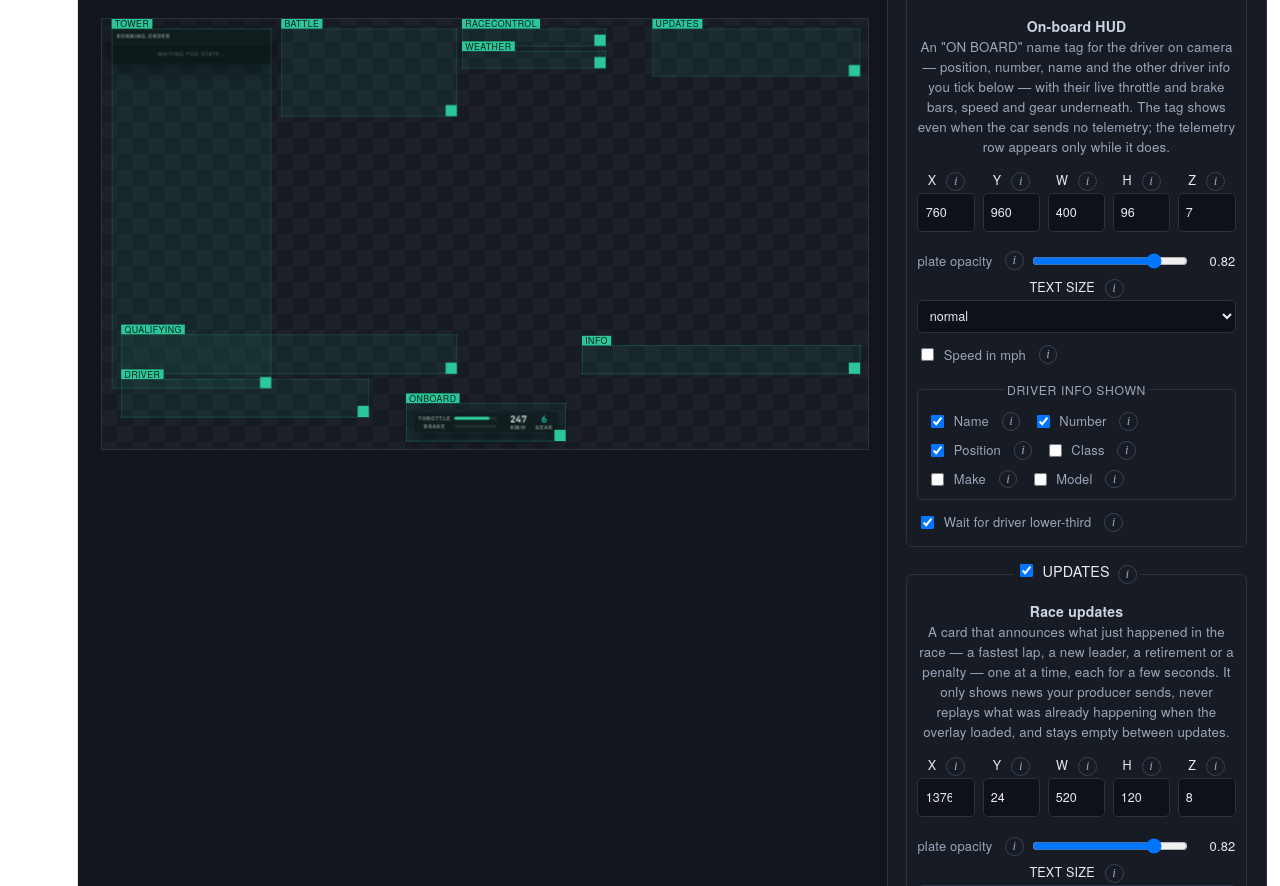
it: config editor: help explains the behaviors that read as bugs › explains the position identity toggle (#61)
The width and height of the screenshot is (1280, 886).
(page scrolled)
Click the button with test id "help-driver-info-onboard-position": x=1023, y=450 [1014, 441, 1032, 460]
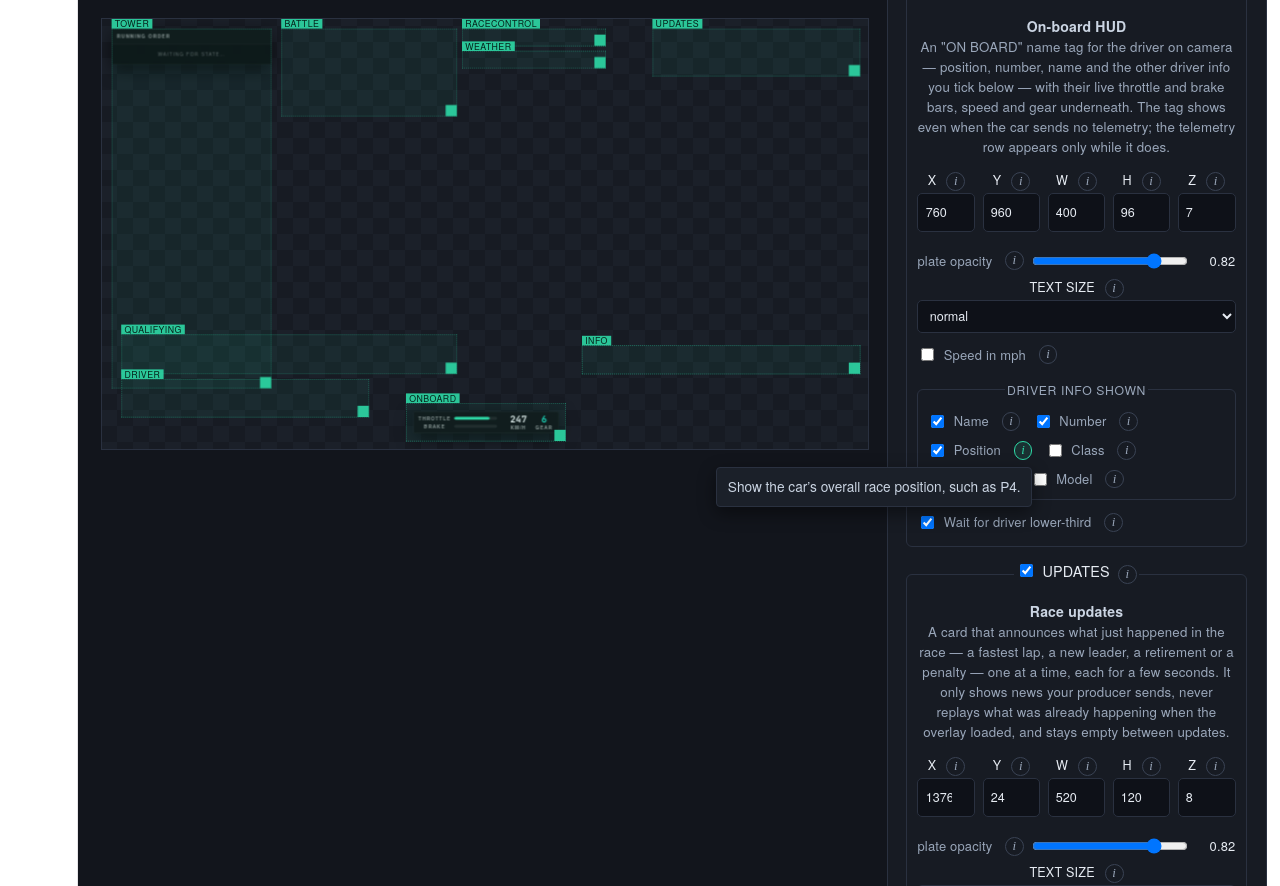
Check: the tooltip with test id "help-driver-info-onboard-position-text" reads "Show the car’s overall race position, such as P4.", box [728, 476, 1021, 496]
